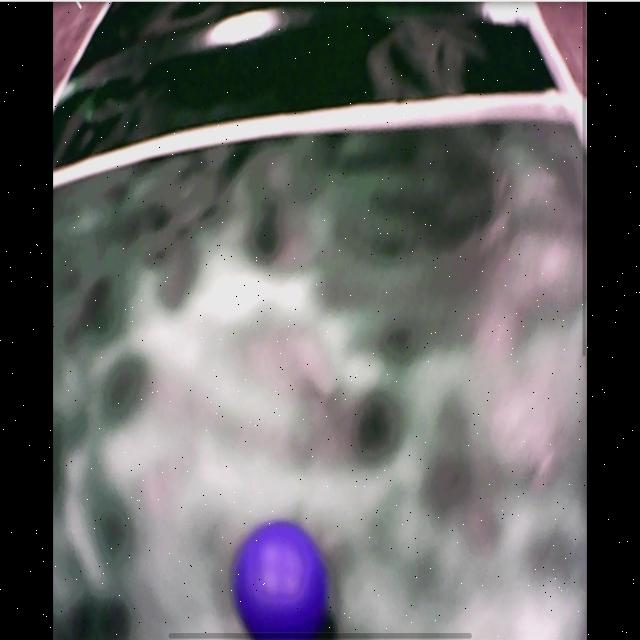ball: (235, 523, 330, 636)
